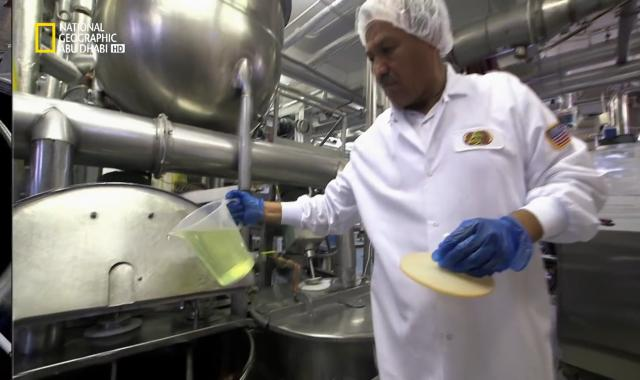hairnet: (356, 0, 454, 53)
